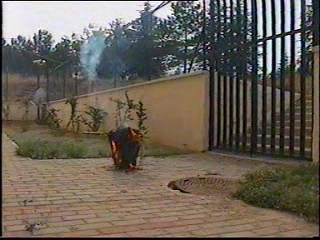smoke: (78, 31, 114, 88)
